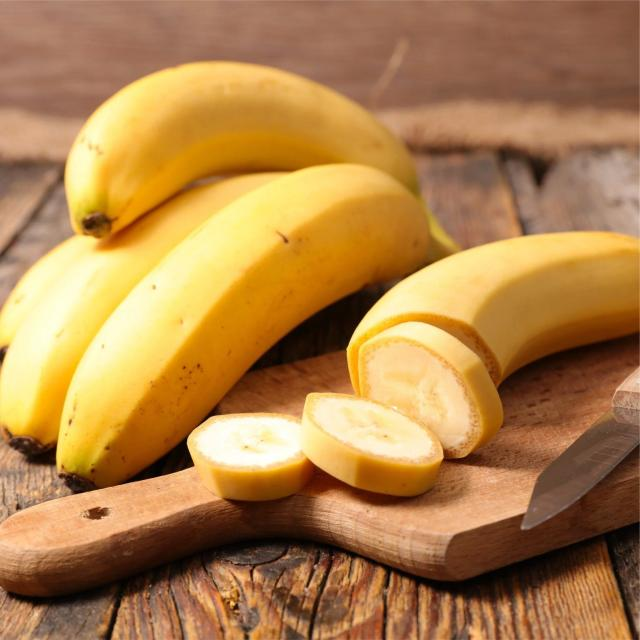chuoi: (57, 164, 432, 487), (0, 173, 288, 446), (347, 232, 640, 458), (65, 62, 418, 239)
